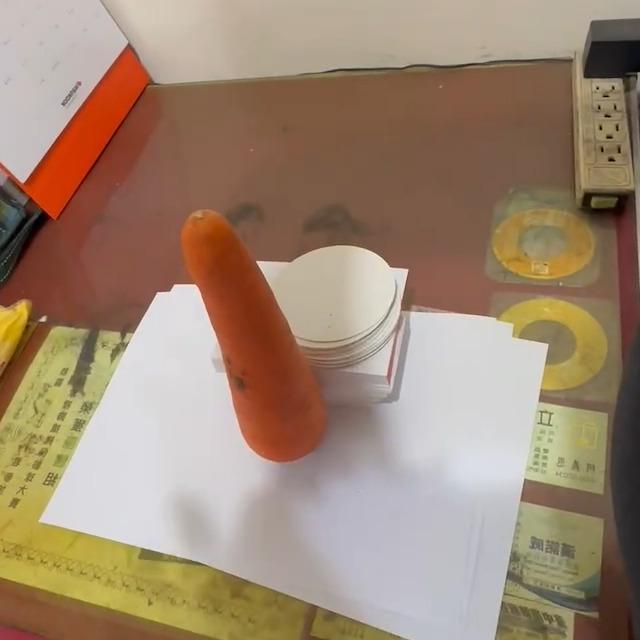carrot: (180, 212, 328, 464)
